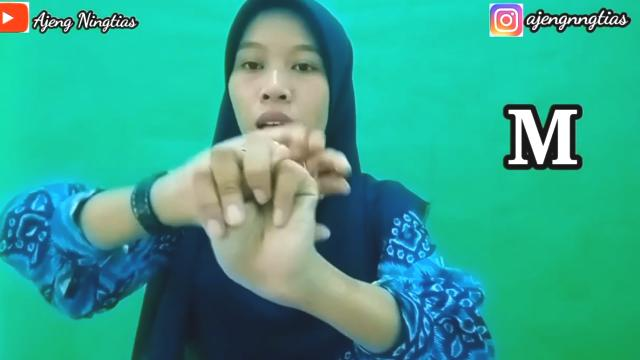M: (190, 130, 322, 292)
